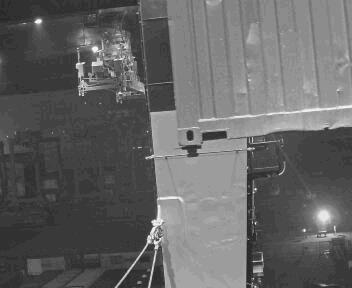twist_lock_1: (230, 127, 247, 145)
